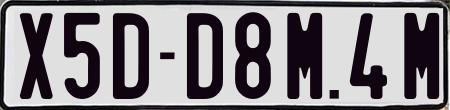4: (350, 12, 391, 99)
5: (61, 10, 100, 98)
8: (233, 12, 270, 103)
D: (112, 11, 149, 101), (184, 11, 221, 100)
M: (287, 13, 322, 99), (404, 11, 434, 101)
X: (17, 11, 51, 97)
